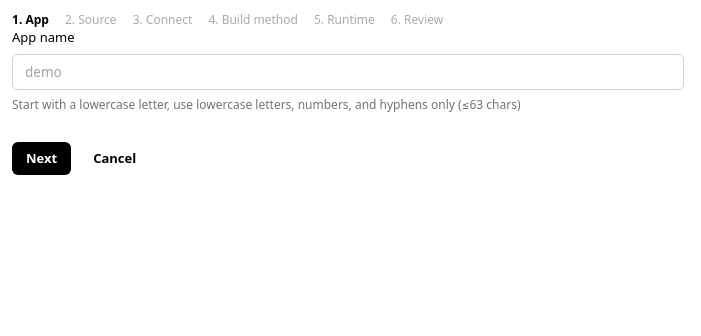
Test: DeployWizard (#83) › shows no suggestions for a repo with no data signals (e.g. a static site)
Later steps or results of the test are not shown.
Type "site" into the field labelled "App name".
click(348, 72); type("site")  # box [12,54,684,90]
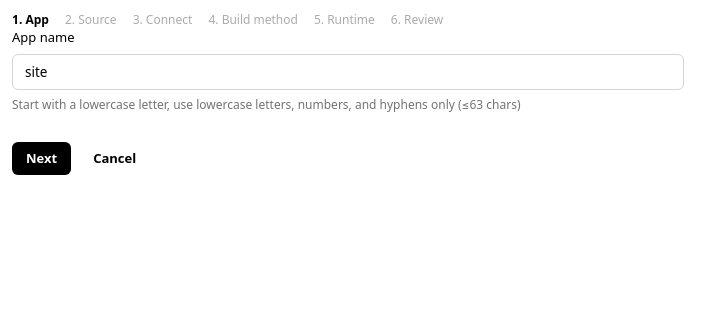
Click the button "Next".
click(42, 158)  # box [12,142,71,175]
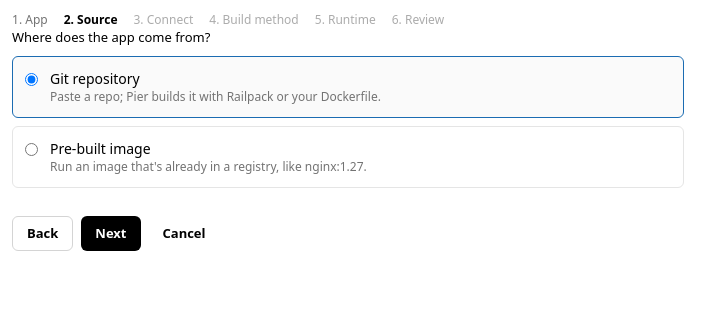
Click the button "Next".
click(111, 233)  # box [81,216,140,251]
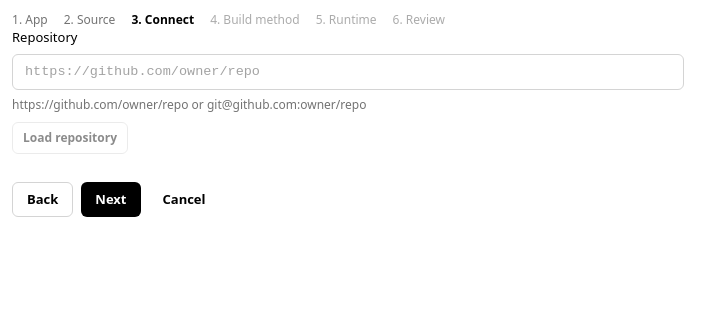
Type "https://github.com/example/site" into the field labelled "Repository".
click(348, 72); type("https://github.com/example/site")  # box [12,54,684,90]
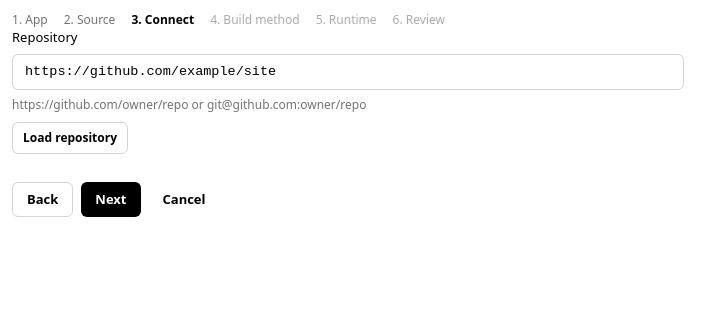
Click the button "Load repository".
click(70, 138)  # box [12,122,128,154]
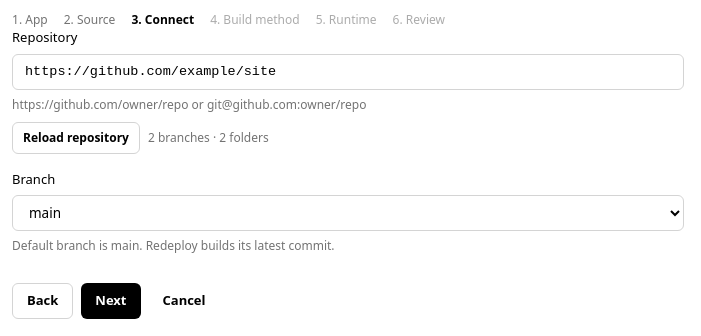
Now the dropdown labelled "Branch" is shown, box [12,195,684,231]
